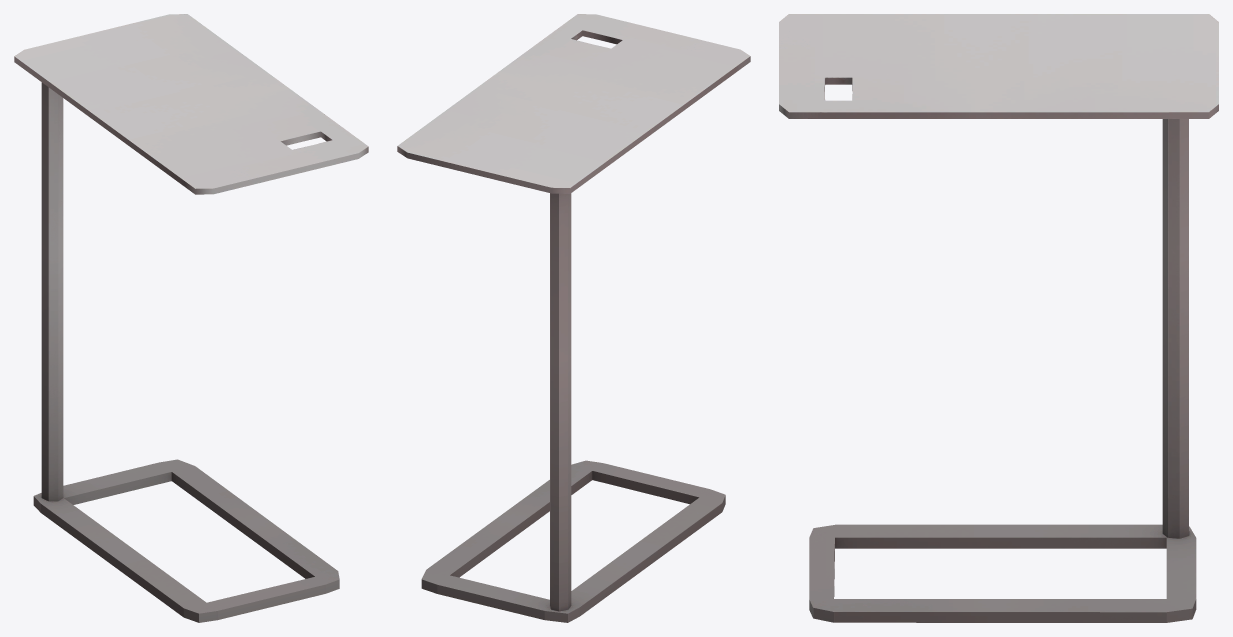
Rendered from SM_Tiny_Table.FBX.
The picture shows the model from 3 angles, left to right: view 1: azimuth 30°, elevation 25°; view 2: azimuth 150°, elevation 25°; view 3: azimuth 270°, elevation 25°; orthographic projection. The views are drawn at different scales.
Visible parts, largest first — view 1: SM_Tiny_Table; view 2: SM_Tiny_Table; view 3: SM_Tiny_Table.
Boxes of the visible parts, x1,y1,x2,y2 form: SM_Tiny_Table: (14,14,368,622); SM_Tiny_Table: (397,14,750,622); SM_Tiny_Table: (779,14,1218,622).
Bounding box in the file's own units: 26.96 × 51.04 × 66.17.
